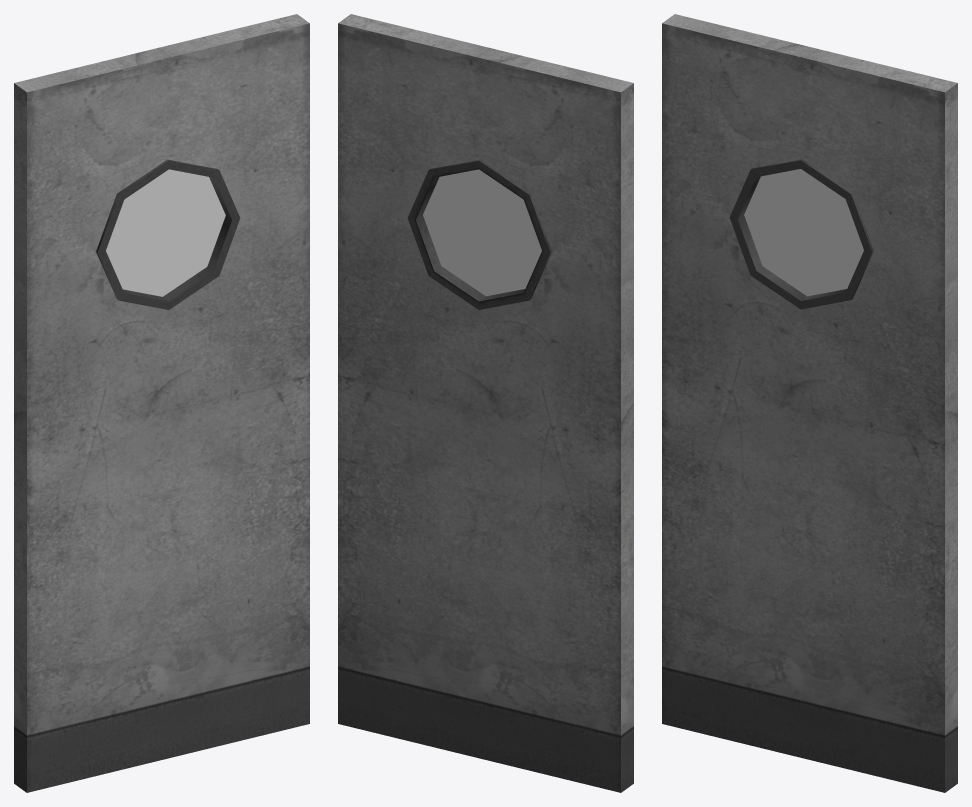
Rendered from Door.dae.
3 renders of one model, left to right at view 1: azimuth 30°, elevation 25°; view 2: azimuth 150°, elevation 25°; view 3: azimuth 330°, elevation 25°, orthographic.
Visible parts, largest first — view 1: Door; view 2: Door; view 3: Door.
Part boxes in pixels (x1,y1,x2,y2): Door: [14, 14, 309, 792]; Door: [338, 14, 633, 792]; Door: [662, 14, 957, 792].
Size of the model in its own units: 1.04 by 0.1022 by 2.45.
Materials: 2 (1 with a texture image).
